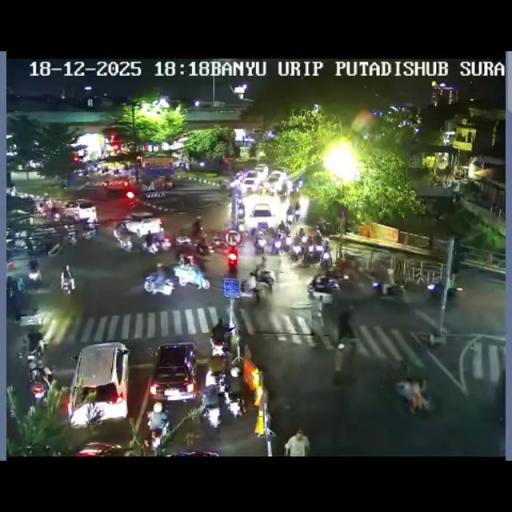Car: (68, 342, 130, 426), (148, 342, 198, 403), (114, 212, 164, 238), (246, 202, 277, 232), (60, 200, 98, 224), (74, 441, 128, 456), (103, 178, 135, 197), (266, 170, 290, 194), (239, 175, 262, 194), (254, 163, 268, 177)
Motorcycle: (394, 380, 434, 417), (28, 359, 54, 406), (172, 260, 210, 290), (146, 404, 170, 451), (334, 338, 357, 384), (337, 268, 372, 298), (306, 273, 341, 302), (220, 385, 245, 419), (18, 332, 46, 362), (198, 396, 222, 430), (208, 324, 234, 355), (144, 272, 176, 296), (426, 278, 460, 300), (143, 231, 172, 255), (174, 238, 200, 264), (204, 362, 227, 390), (252, 268, 275, 290), (238, 277, 258, 300), (9, 286, 22, 320), (302, 242, 322, 264), (229, 356, 244, 382), (59, 270, 75, 294), (24, 238, 45, 256), (316, 218, 336, 236), (287, 239, 303, 261), (116, 232, 133, 252), (270, 234, 285, 256), (46, 239, 64, 257), (383, 282, 405, 296), (28, 269, 42, 290), (254, 233, 267, 254), (195, 239, 211, 256), (210, 232, 226, 249), (320, 246, 332, 268), (80, 225, 97, 240), (289, 178, 304, 194), (34, 199, 48, 214), (66, 230, 78, 246), (49, 208, 62, 222), (256, 254, 266, 272), (278, 222, 290, 236), (163, 174, 173, 190), (299, 231, 309, 246), (73, 167, 88, 177), (286, 210, 295, 226), (158, 223, 166, 241), (312, 230, 322, 244), (372, 280, 382, 294), (7, 228, 17, 242), (219, 180, 228, 193), (294, 203, 300, 220), (98, 164, 108, 174)
